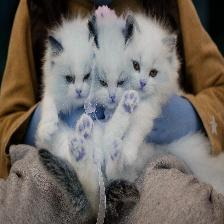kedo: (87, 7, 138, 163), (122, 21, 179, 111), (45, 27, 95, 107)
